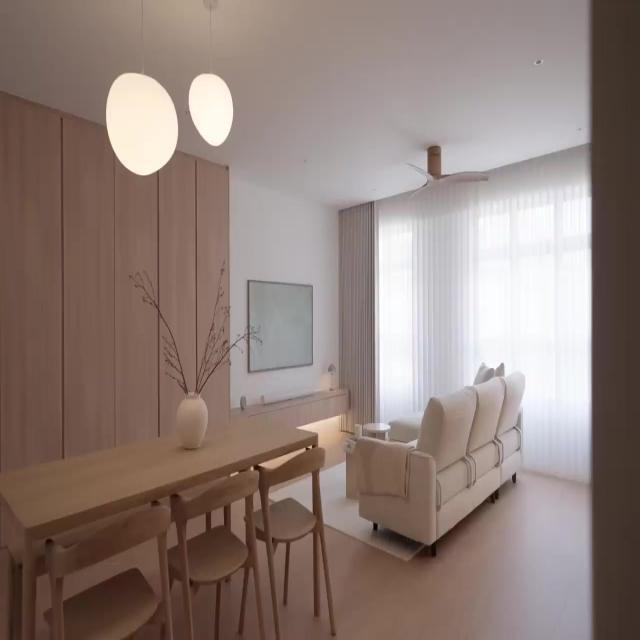obstacle: (1, 414, 320, 638), (352, 370, 524, 558)
